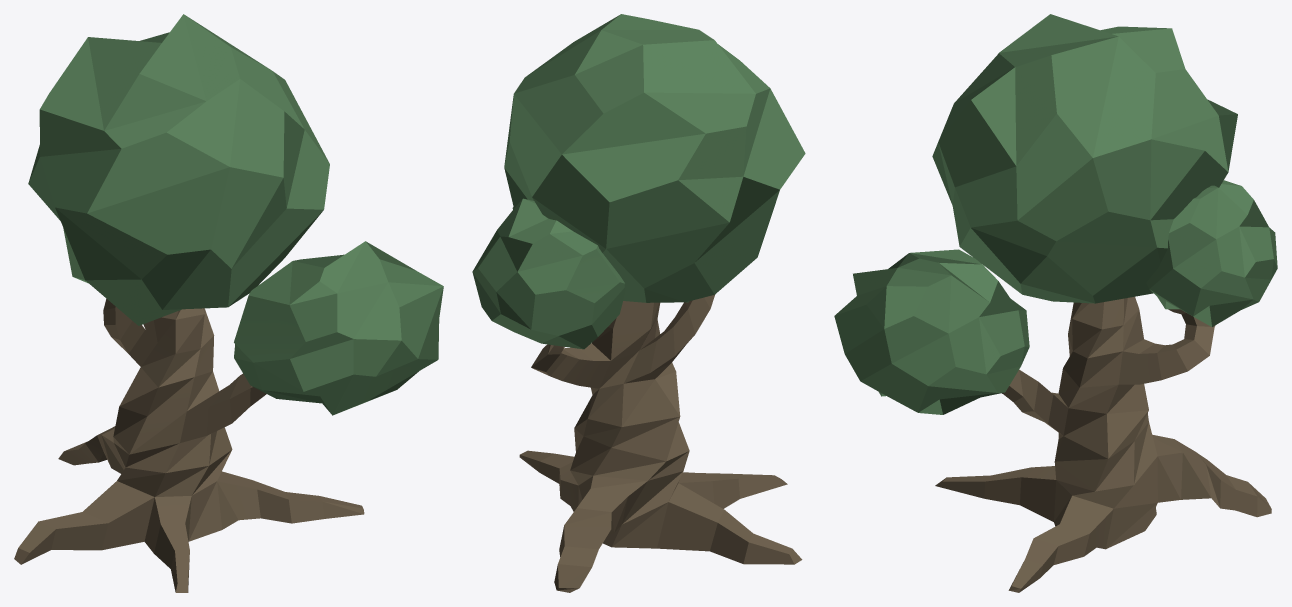
Rendered from Tree2.fbx.
3 renders of one model, left to right at view 1: azimuth 30°, elevation 25°; view 2: azimuth 150°, elevation 25°; view 3: azimuth 270°, elevation 25°, orthographic.
Visible parts, largest first — view 1: GDD_Tree2; view 2: GDD_Tree2; view 3: GDD_Tree2.
Part boxes in pixels (x1,y1,x2,y2): GDD_Tree2: (14,14,443,592); GDD_Tree2: (472,14,805,592); GDD_Tree2: (834,14,1277,592).
Bounding box in the file's own units: 36980 × 51775 × 41639.
